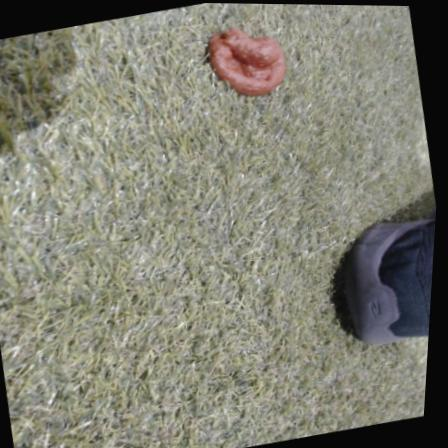dog-poop: (199, 18, 291, 104)
